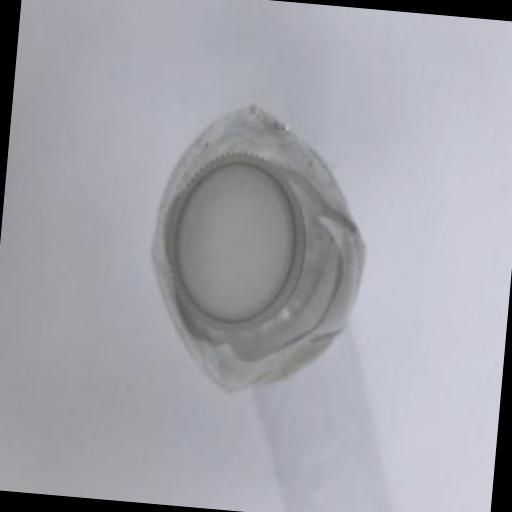plastic: (140, 98, 378, 405), (154, 146, 315, 352)
